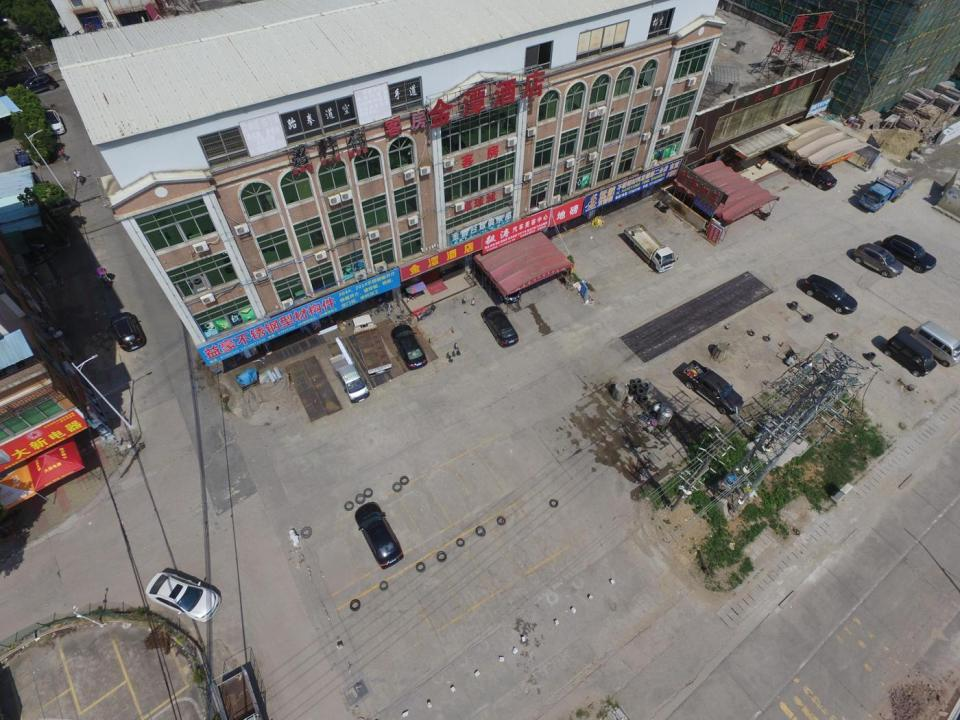car: (146, 572, 222, 621), (354, 501, 404, 569), (802, 274, 857, 314), (883, 234, 936, 273), (853, 242, 904, 276), (480, 306, 518, 348), (394, 325, 427, 370), (110, 312, 146, 352), (482, 267, 522, 302), (18, 73, 56, 99), (804, 166, 837, 192), (40, 110, 66, 137)
van: (680, 360, 744, 413), (622, 222, 678, 273), (210, 666, 262, 720), (351, 315, 392, 376), (859, 168, 914, 212), (884, 330, 936, 376), (911, 320, 960, 367), (329, 353, 370, 404)
